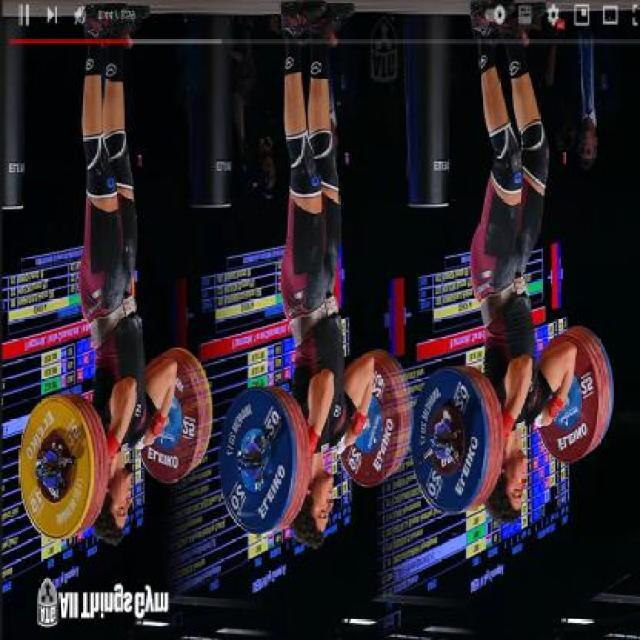Barbell: (234, 450, 250, 476), (32, 459, 45, 487), (428, 432, 442, 456)
